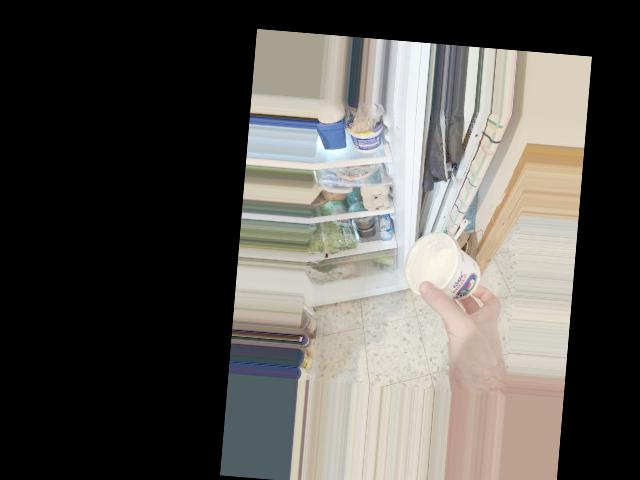cotage: (403, 228, 491, 312)
